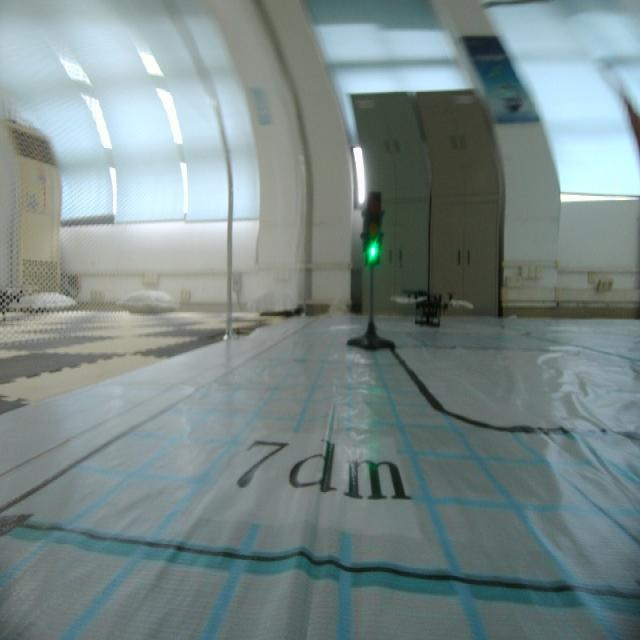green: (356, 188, 387, 275)
